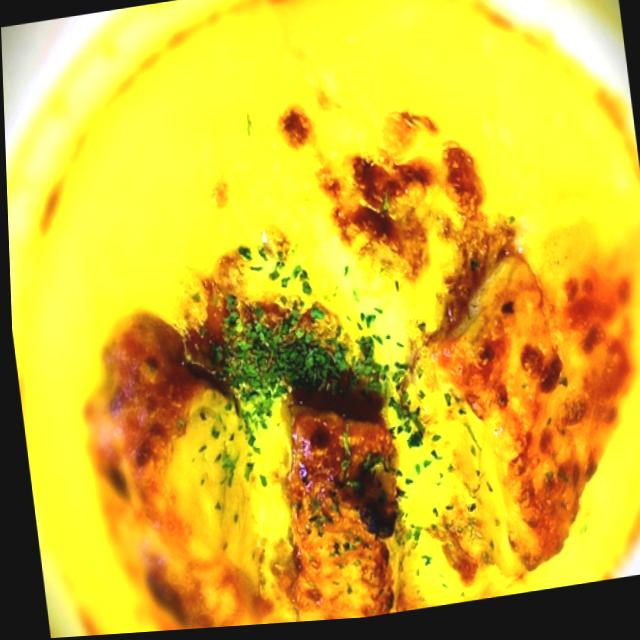米饭主食: (57, 22, 640, 637)
